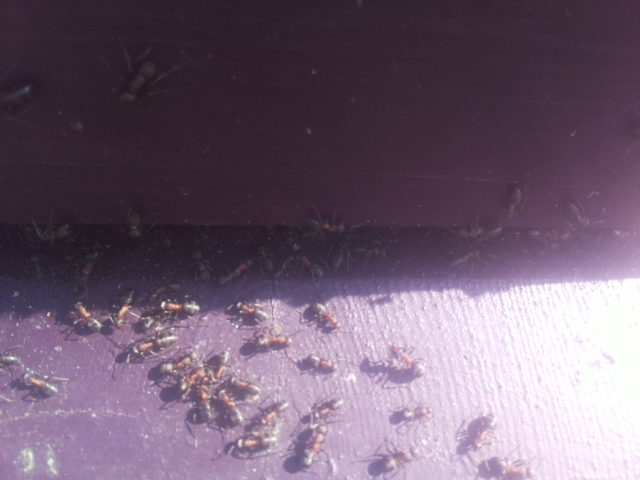ant: (111, 51, 165, 112), (120, 326, 183, 366), (453, 410, 501, 456), (382, 340, 430, 381), (359, 449, 418, 480), (72, 241, 106, 294), (15, 369, 65, 402), (0, 74, 38, 116), (299, 417, 328, 471), (217, 432, 276, 457), (297, 210, 350, 237), (111, 284, 139, 335), (387, 401, 437, 428), (71, 297, 104, 337), (214, 257, 253, 288), (253, 331, 298, 355), (502, 179, 529, 218), (234, 299, 272, 326), (251, 242, 279, 276), (218, 386, 242, 425), (311, 301, 340, 332), (158, 296, 202, 316), (189, 246, 214, 281), (314, 396, 346, 419), (262, 400, 287, 424), (213, 349, 233, 378), (0, 352, 16, 371)
